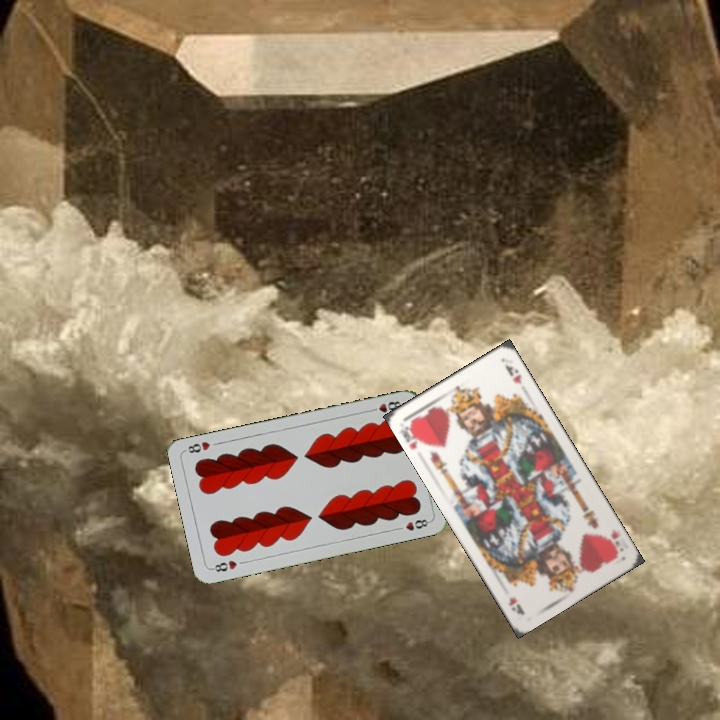H8: (366, 397, 406, 415), (208, 556, 240, 574)
HK: (396, 418, 427, 452), (601, 525, 626, 558)
